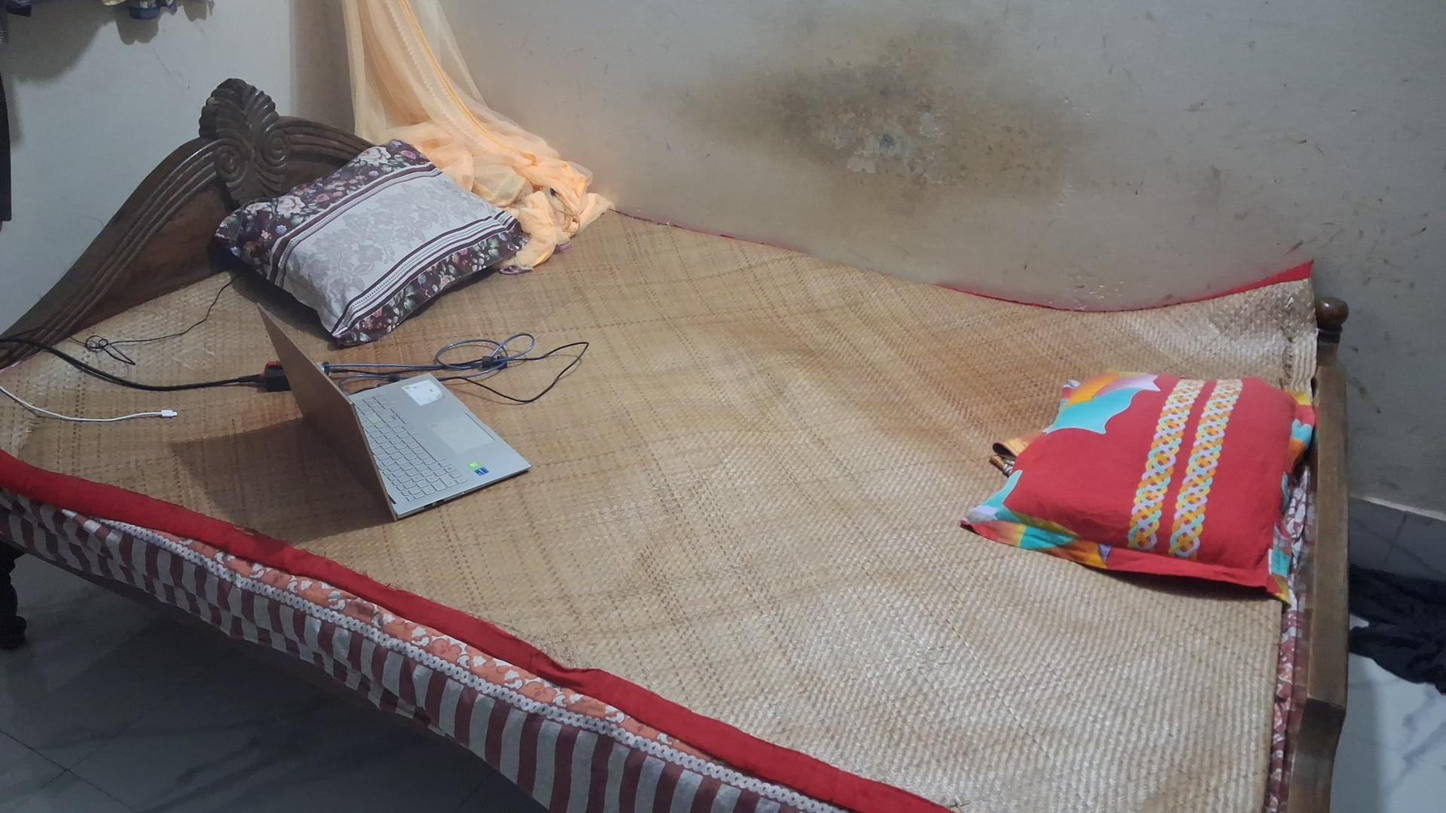Laptop: (255, 306, 532, 522)
Pillow: (958, 370, 1314, 608), (214, 141, 527, 345)
